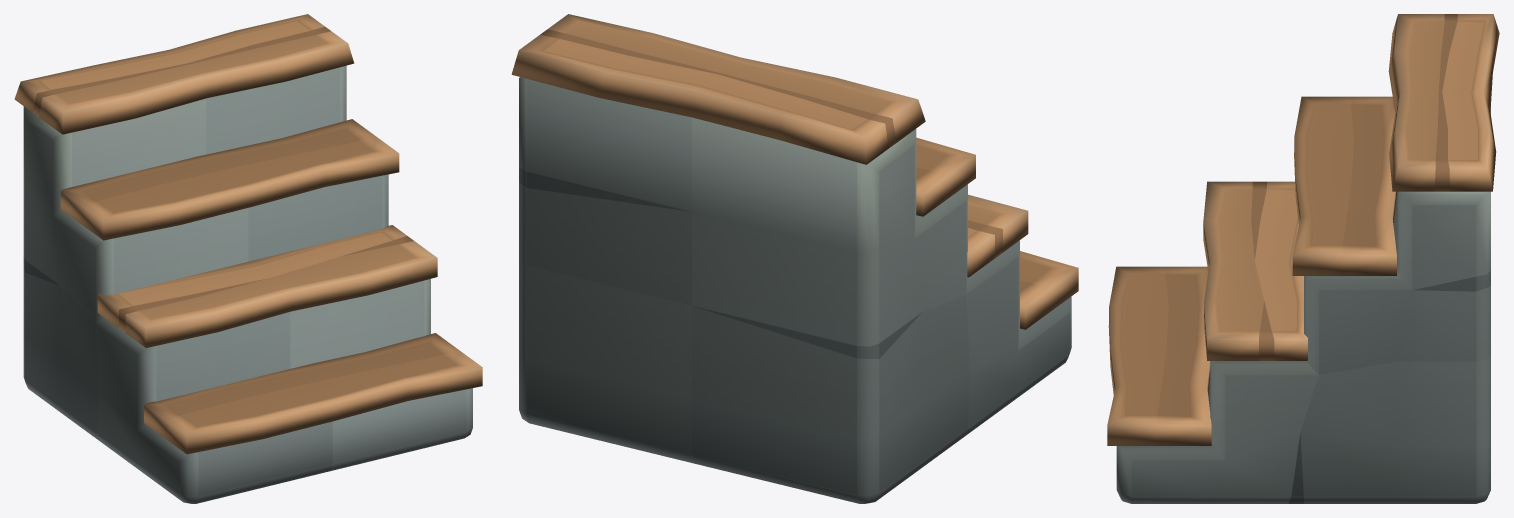
Rendered from tavern_stairs.fbx.
3 renders of one model, left to right at view 1: azimuth 30°, elevation 25°; view 2: azimuth 150°, elevation 25°; view 3: azimuth 270°, elevation 25°, orthographic. The views are drawn at different scales.
Visible parts, largest first — view 1: tavern_stairs_LOD0; view 2: tavern_stairs_LOD0; view 3: tavern_stairs_LOD0.
Boxes of the visible parts, x1,y1,x2,y2 form: tavern_stairs_LOD0: (14, 14, 482, 503); tavern_stairs_LOD0: (511, 14, 1078, 503); tavern_stairs_LOD0: (1107, 14, 1499, 503).
Size of what is drawn, in the model's own units: 100 by 100 by 105.
